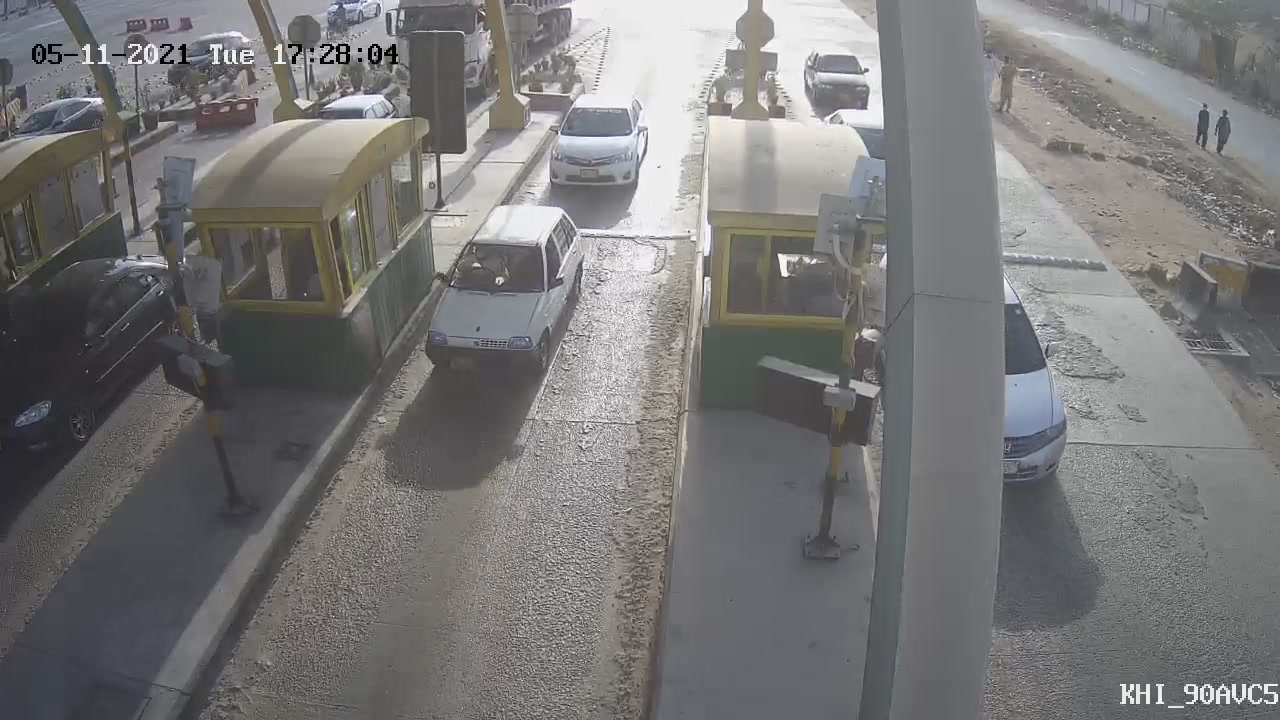F1: (404, 190, 609, 399), (533, 77, 663, 209)
